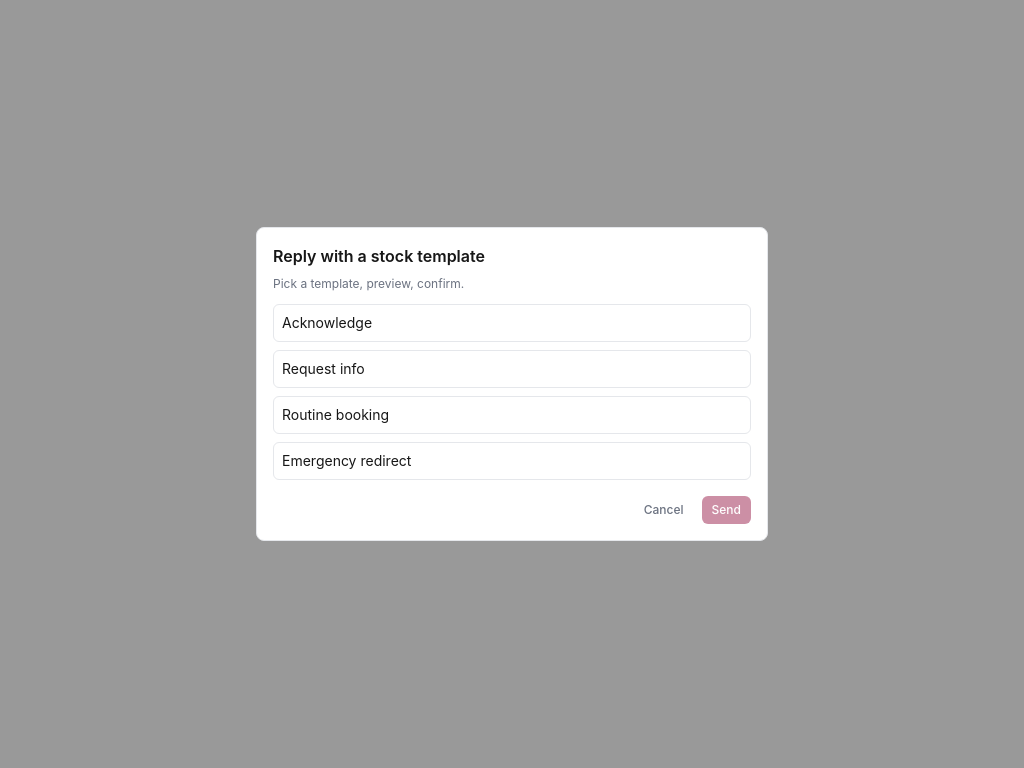
Test: StockReplyModal › shows the error banner when the API returns non-ok
This screenshot has width=1024, height=768.
Click the button "Request info".
click(323, 368)  # box [273,350,751,388]
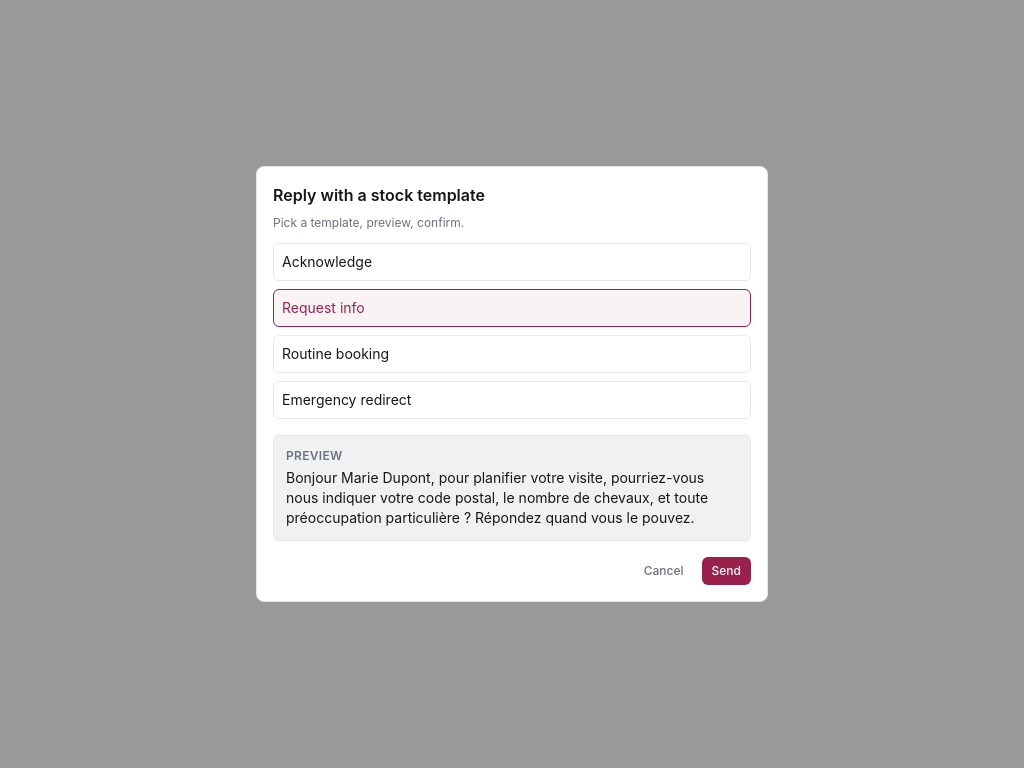
Click the button "Send".
click(726, 571)  # box [702,557,751,585]
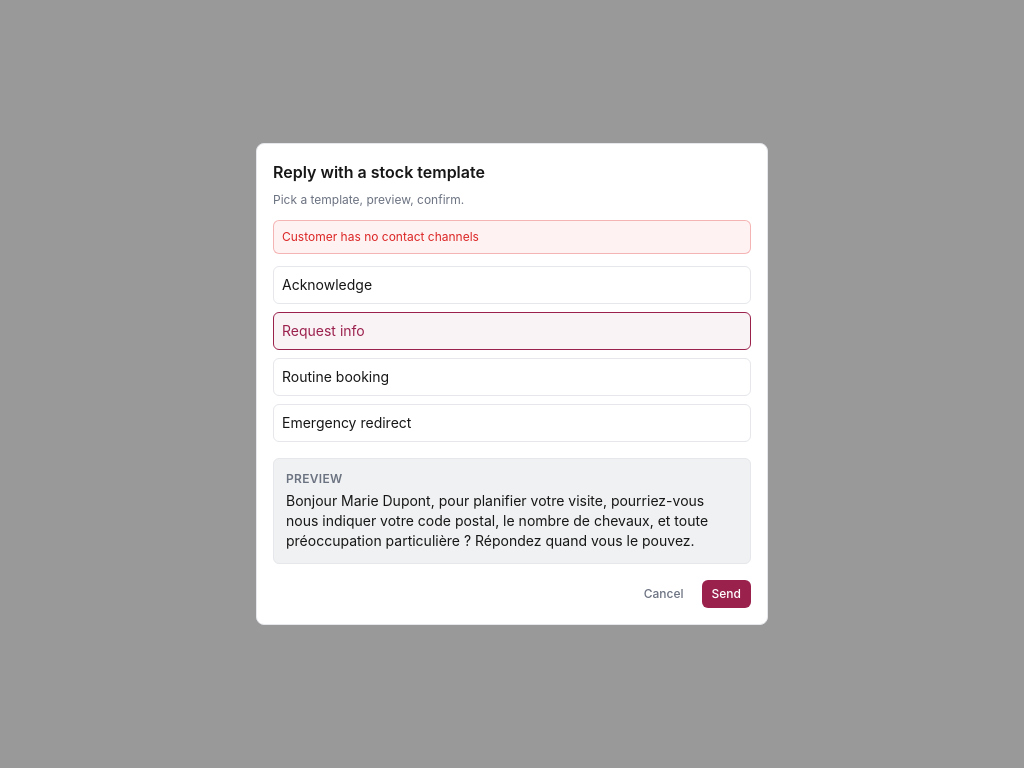
Expected: the message reads "Customer has no contact channels", [282,229,479,244]
